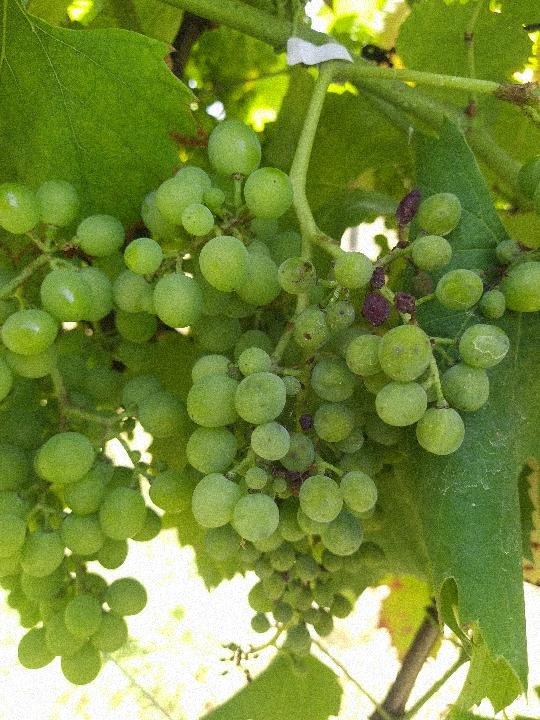grape: (113, 116, 511, 566)
